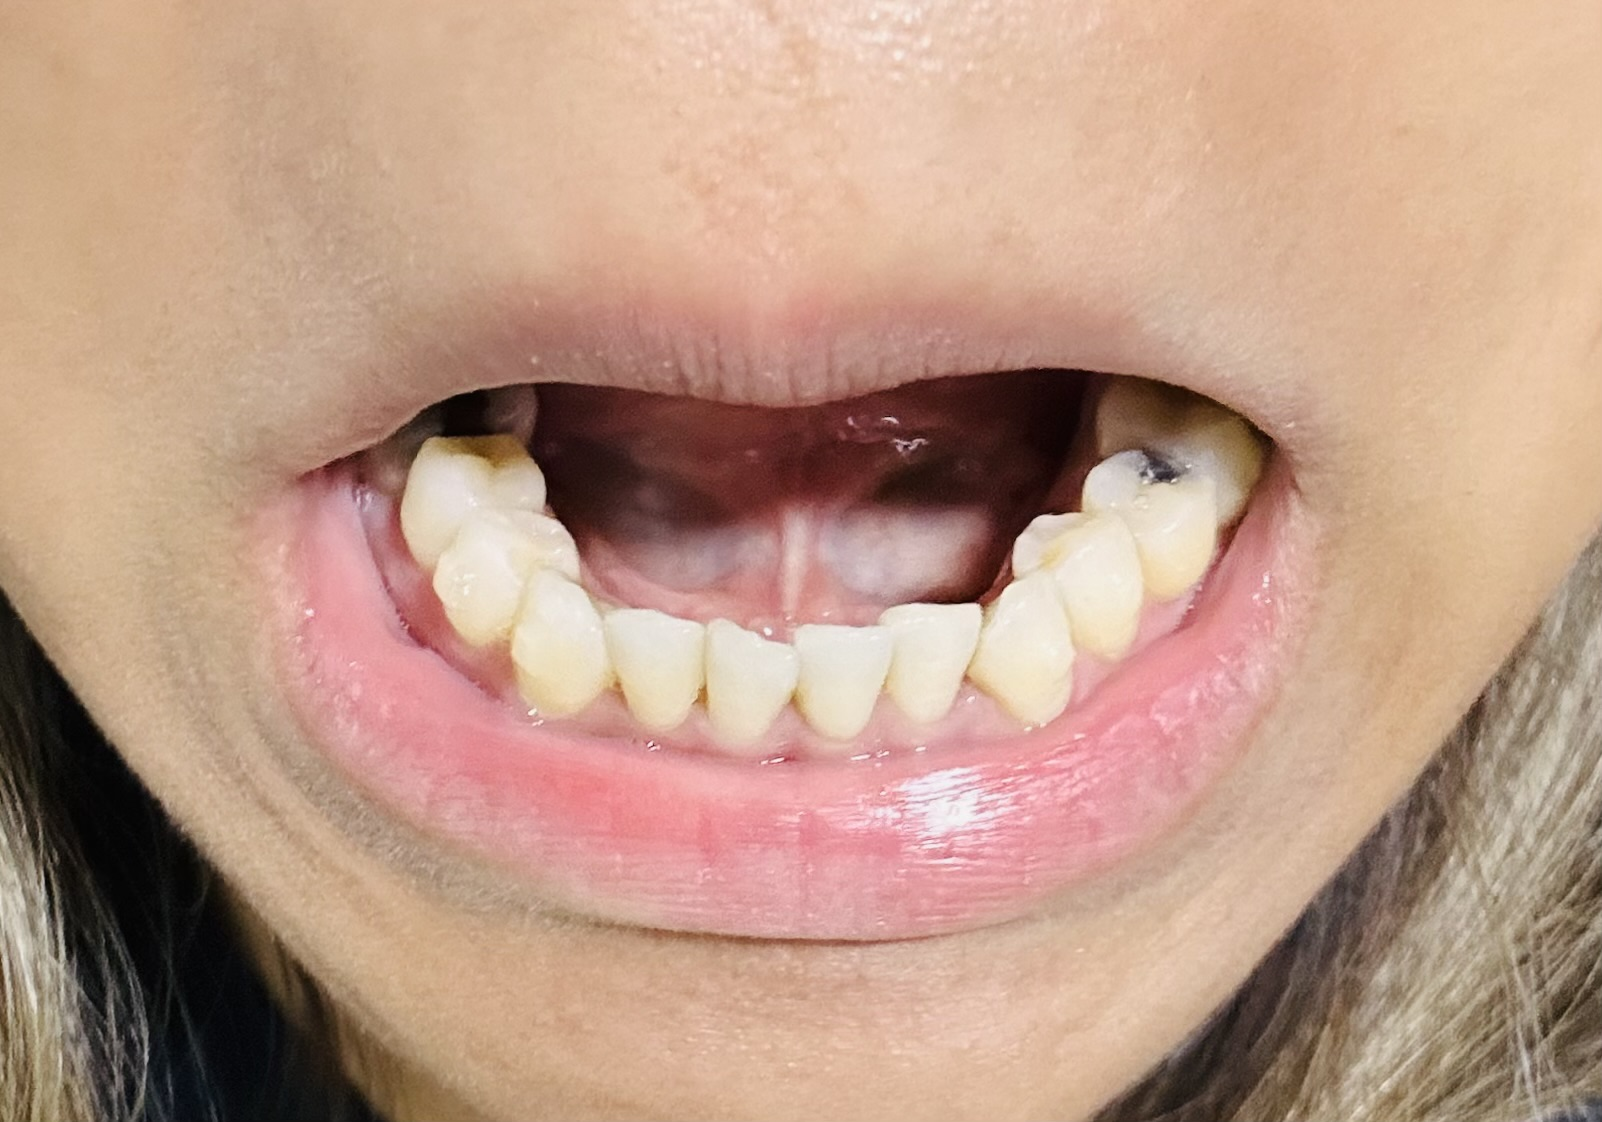teeth: (1083, 445, 1225, 598), (403, 430, 539, 567), (1013, 512, 1120, 662), (974, 570, 1074, 722), (436, 522, 559, 643), (1113, 383, 1251, 481), (509, 580, 606, 714), (884, 607, 970, 719), (707, 628, 796, 736), (801, 630, 891, 735), (607, 621, 694, 712)
